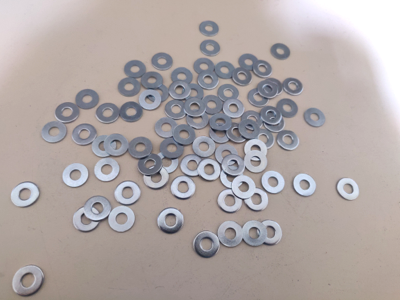circle: (12, 266, 44, 297), (193, 231, 221, 258), (11, 182, 40, 208), (74, 206, 101, 233), (109, 206, 135, 233), (158, 208, 185, 234), (85, 197, 112, 222), (258, 220, 283, 247), (115, 181, 141, 206), (218, 221, 243, 247), (63, 164, 89, 188), (243, 221, 267, 247), (95, 158, 120, 182), (144, 166, 169, 190), (171, 176, 196, 200), (218, 189, 243, 213), (232, 175, 256, 200), (245, 188, 269, 212), (104, 134, 129, 157), (72, 124, 98, 146), (155, 152, 179, 175), (262, 172, 286, 195), (138, 154, 163, 176), (220, 167, 245, 189), (337, 178, 360, 201), (294, 174, 317, 197), (180, 154, 203, 177), (198, 158, 221, 181), (43, 121, 67, 143), (128, 137, 153, 158), (173, 124, 196, 146), (222, 154, 245, 176), (245, 151, 268, 173), (245, 139, 268, 161), (93, 136, 117, 157), (76, 89, 100, 110), (120, 102, 143, 123), (155, 118, 178, 139), (161, 138, 184, 159), (193, 137, 216, 158), (216, 145, 239, 166), (56, 103, 80, 123), (187, 109, 209, 130), (209, 123, 231, 144), (239, 119, 261, 140), (97, 104, 120, 124), (277, 131, 300, 151), (139, 90, 162, 110), (119, 77, 141, 97), (226, 123, 248, 143), (222, 99, 245, 118), (202, 95, 223, 115), (254, 129, 274, 150), (125, 60, 147, 79), (169, 81, 191, 100), (147, 84, 169, 103), (304, 108, 326, 127), (184, 98, 206, 117), (184, 83, 204, 103), (277, 99, 298, 118), (198, 71, 219, 90), (172, 68, 193, 87), (248, 89, 269, 108), (166, 100, 187, 119), (242, 111, 263, 130), (261, 106, 282, 125), (264, 113, 285, 132), (210, 114, 233, 131), (253, 60, 273, 79), (219, 84, 239, 103), (142, 72, 163, 90), (283, 78, 304, 96), (239, 54, 260, 72), (152, 53, 173, 70), (216, 62, 236, 79), (194, 59, 215, 75), (200, 40, 220, 56), (271, 44, 291, 60), (199, 21, 219, 36)
